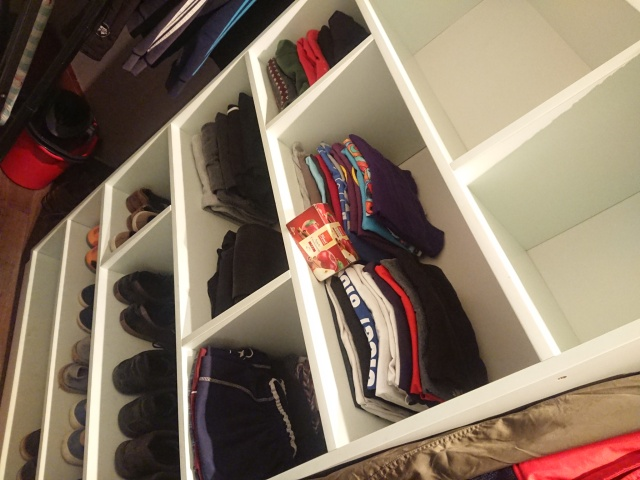Franck Apple Cinnamon Tea 60g: (284, 200, 362, 283)
